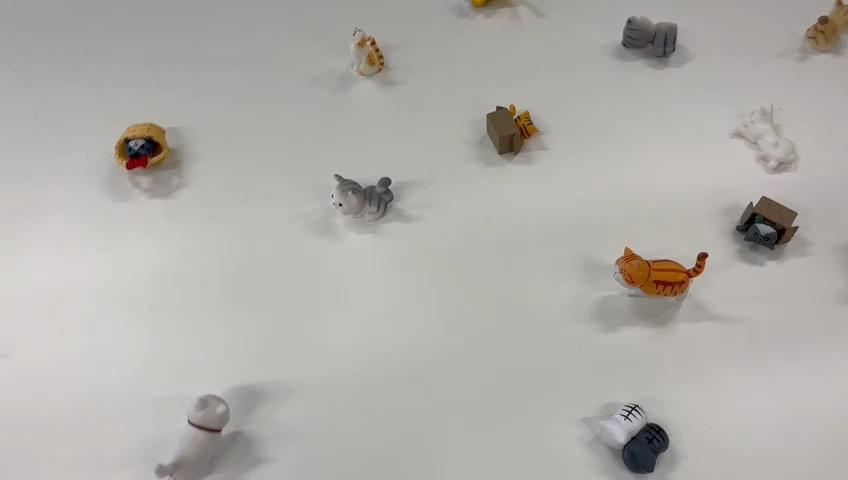pet: (153, 356, 270, 480), (608, 226, 719, 336), (568, 399, 695, 477), (311, 146, 408, 240), (466, 106, 567, 193), (723, 106, 813, 187), (611, 4, 695, 88), (111, 99, 184, 194), (731, 201, 808, 276), (786, 0, 848, 75), (341, 26, 404, 97)
